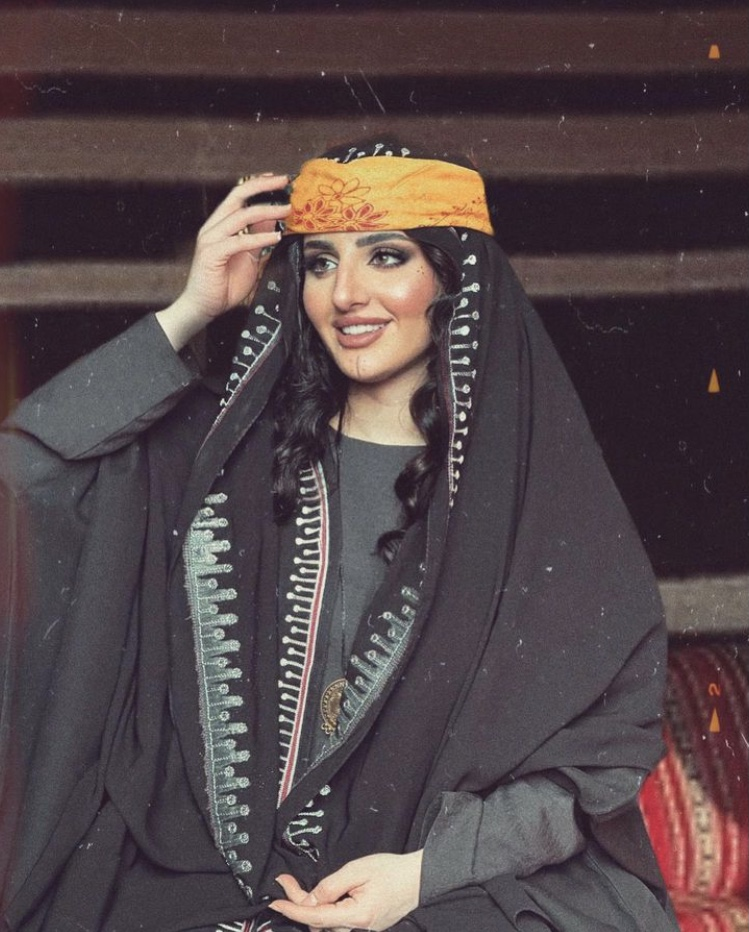Saudi_Founding_Day: (1, 136, 676, 932)
